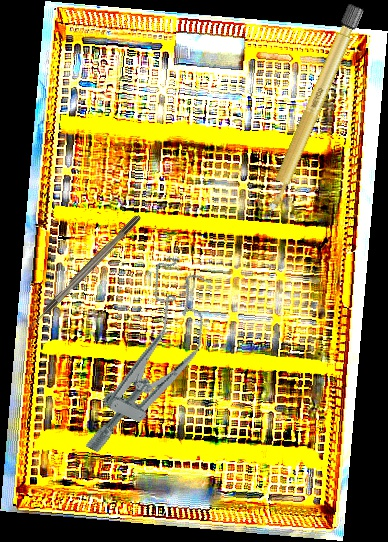Hook Surgical: (23, 213, 143, 334)
Scalpel Handle: (259, 1, 366, 217)
Speculum: (71, 253, 230, 473)
